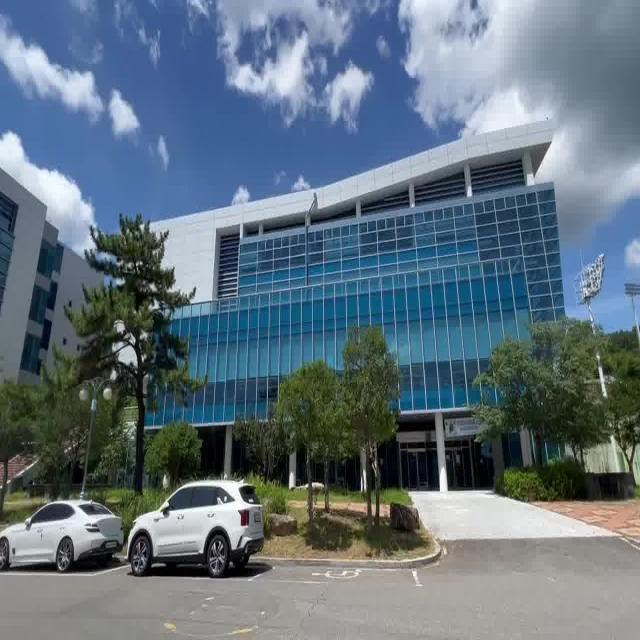building: (191, 120, 570, 358)
